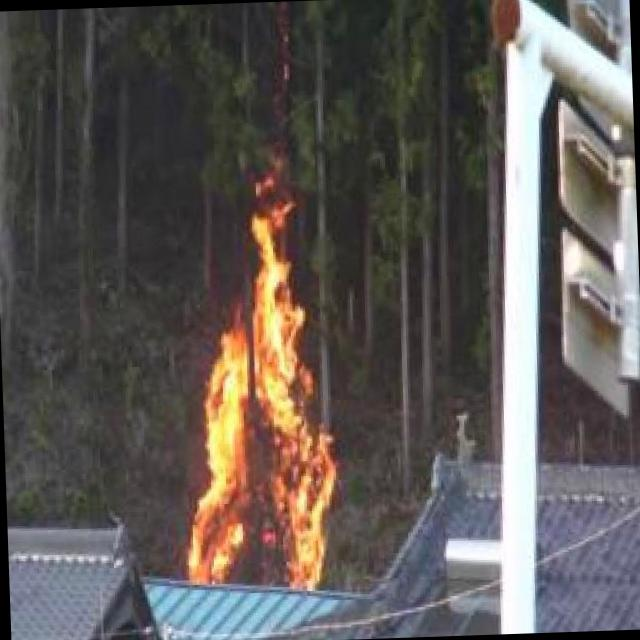Fire: (170, 199, 336, 594)
